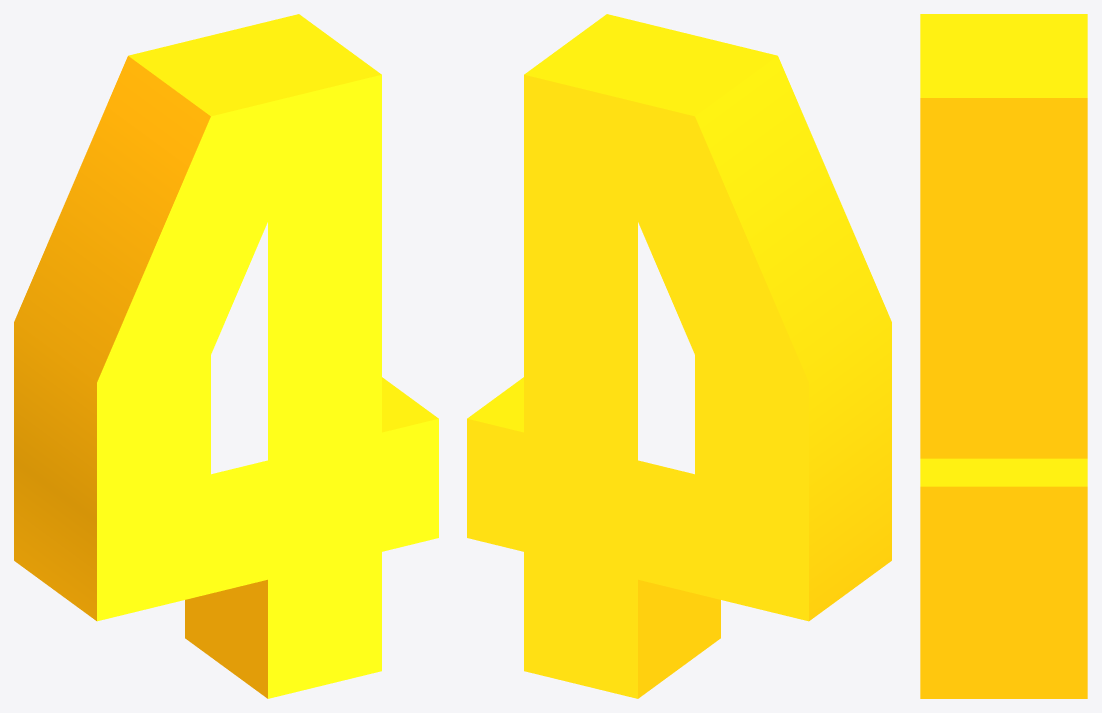
3 renders of one model, left to right at view 1: azimuth 30°, elevation 25°; view 2: azimuth 150°, elevation 25°; view 3: azimuth 270°, elevation 25°, orthographic.
Parts seen in each view (by area): view 1: 4_DeltaBlock_Yellow; view 2: 4_DeltaBlock_Yellow; view 3: 4_DeltaBlock_Yellow.
Part boxes in pixels (x1,y1,x2,y2): 4_DeltaBlock_Yellow: (14,14,438,698); 4_DeltaBlock_Yellow: (467,14,891,698); 4_DeltaBlock_Yellow: (920,14,1087,698).
Size of what is drawn, in the model's own units: 0.1071 by 0.1786 by 0.045.
2 materials, 2 textured.
